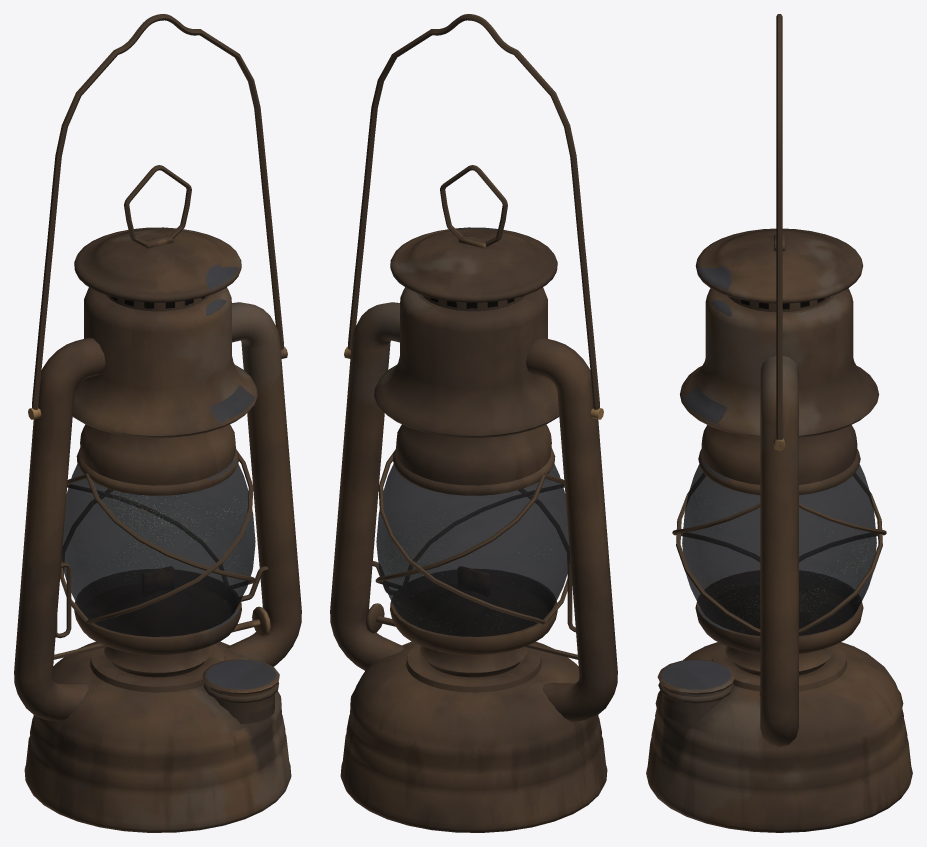
File: hurricane-lantern_final.glb
3 views of the same model, side by side, from view 1: azimuth 30°, elevation 25°; view 2: azimuth 150°, elevation 25°; view 3: azimuth 270°, elevation 25° (orthographic).
Visible parts, largest first — view 1: SM_HurricaneLantern, SM_HurricaneLantern_Glass, SM_HurricaneLantern_Bail, SM_HurricaneLantern_Wire; view 2: SM_HurricaneLantern, SM_HurricaneLantern_Glass, SM_HurricaneLantern_Bail, SM_HurricaneLantern_Wire; view 3: SM_HurricaneLantern, SM_HurricaneLantern_Glass, SM_HurricaneLantern_Bail, SM_HurricaneLantern_Wire.
Part boxes in pixels (<box>): SM_HurricaneLantern: <box>14,227,301,832</box>; SM_HurricaneLantern_Glass: <box>61,463,255,636</box>; SM_HurricaneLantern_Bail: <box>32,14,283,409</box>; SM_HurricaneLantern_Wire: <box>53,165,268,659</box>; SM_HurricaneLantern: <box>330,227,617,832</box>; SM_HurricaneLantern_Glass: <box>376,463,570,636</box>; SM_HurricaneLantern_Bail: <box>348,14,599,409</box>; SM_HurricaneLantern_Wire: <box>371,165,578,659</box>; SM_HurricaneLantern: <box>646,228,912,832</box>; SM_HurricaneLantern_Glass: <box>682,464,876,635</box>; SM_HurricaneLantern_Bail: <box>776,14,782,439</box>; SM_HurricaneLantern_Wire: <box>672,473,886,633</box>.
Bounding box in the file's own units: 0.1391 × 0.3591 × 0.114.
3 materials, 2 textured.
